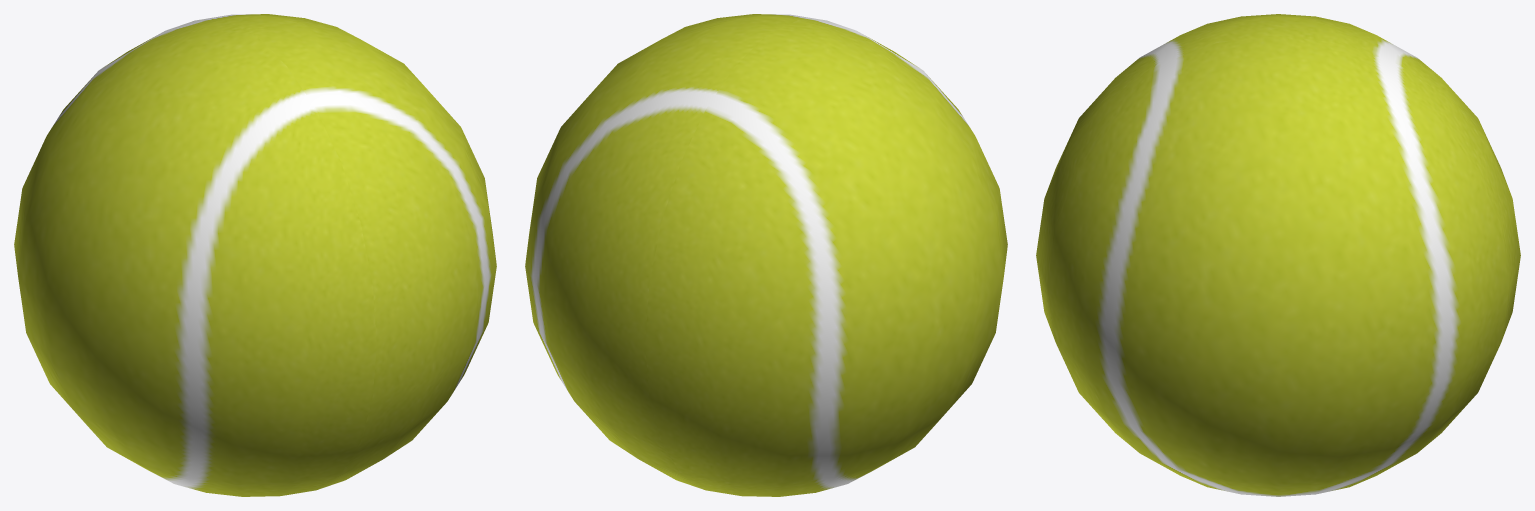
Rendered from Tennis ball.glb.
3 views of the same model, side by side, from view 1: azimuth 30°, elevation 25°; view 2: azimuth 150°, elevation 25°; view 3: azimuth 270°, elevation 25° (orthographic).
Visible parts, largest first — view 1: Sphere; view 2: Sphere; view 3: Sphere.
Part boxes in pixels (x1=…): Sphere: x1=14, y1=14, x2=496, y2=496; Sphere: x1=525, y1=14, x2=1007, y2=496; Sphere: x1=1036, y1=14, x2=1520, y2=496.
Bounding box in the file's own units: 0.1172 × 0.1172 × 0.1172.
Materials: 1 (1 with a texture image).
